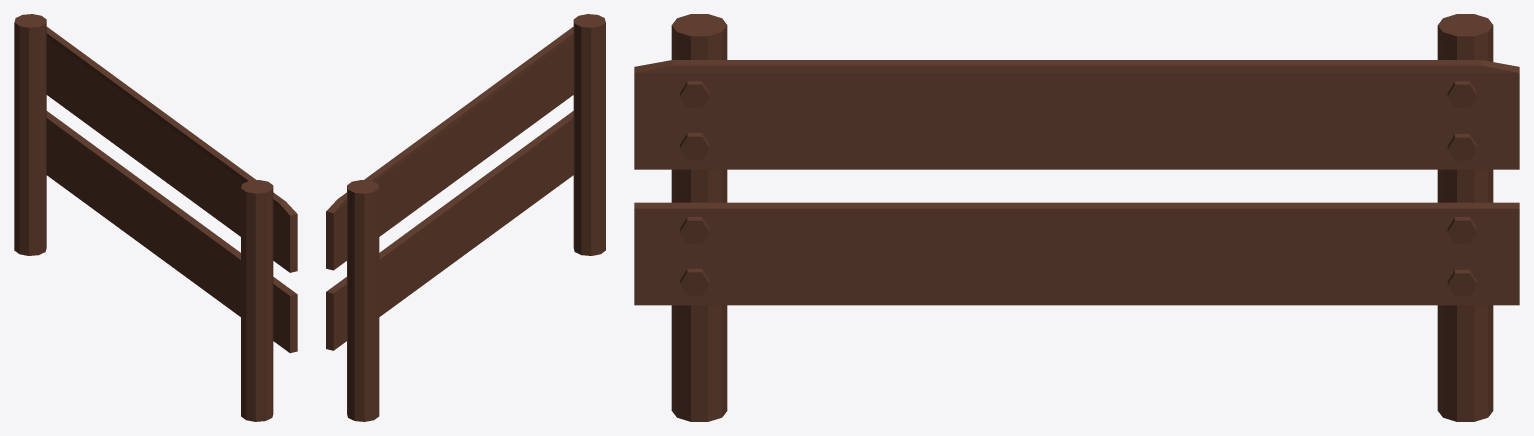
File: cerca.fbx
3 views of the same model, side by side, from view 1: azimuth 30°, elevation 25°; view 2: azimuth 150°, elevation 25°; view 3: azimuth 270°, elevation 25° (orthographic). The views are drawn at different scales.
Parts seen in each view (by area): view 1: Cylinder; view 2: Cylinder; view 3: Cylinder.
Boxes of the visible parts, left/top/right/bottom form: Cylinder: left=14, top=14, right=297, bottom=421; Cylinder: left=326, top=14, right=605, bottom=421; Cylinder: left=634, top=14, right=1519, bottom=421.
Size of the model in its own units: 275 by 1528 by 3179.
